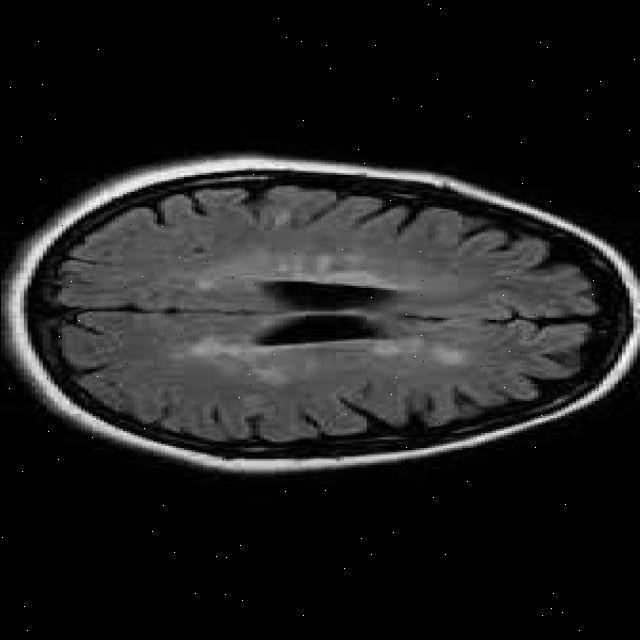No_Tumor: (2, 156, 639, 473)
